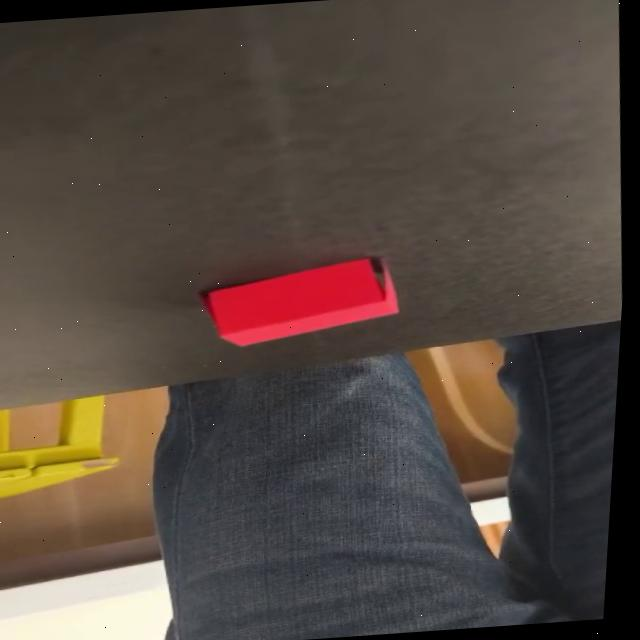red block: (196, 253, 405, 349)
